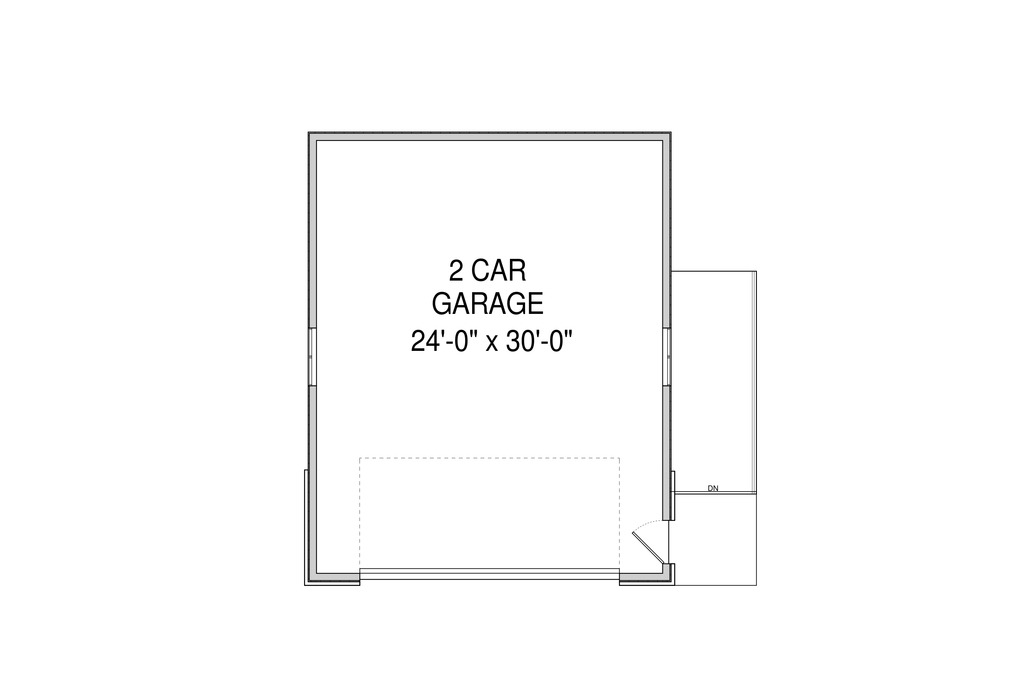door: (629, 518, 681, 569)
window: (663, 322, 680, 386), (305, 325, 319, 389)
